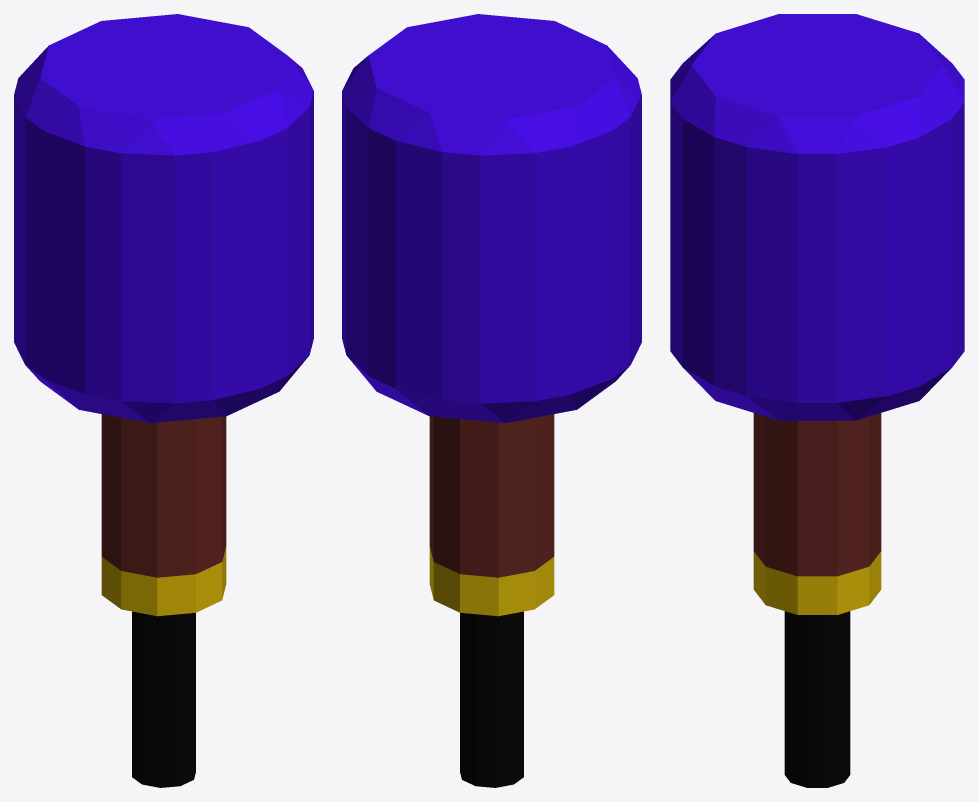
Rendered from martilloAzul.fbx.
3 renders of one model, left to right at view 1: azimuth 30°, elevation 25°; view 2: azimuth 150°, elevation 25°; view 3: azimuth 270°, elevation 25°, orthographic.
Visible parts, largest first — view 1: Cylinder; view 2: Cylinder; view 3: Cylinder.
Boxes of the visible parts, x1,y1,x2,y2 form: Cylinder: [14, 14, 313, 787]; Cylinder: [342, 14, 641, 787]; Cylinder: [670, 14, 964, 787].
Size of the model in its own units: 140 by 367 by 138.
